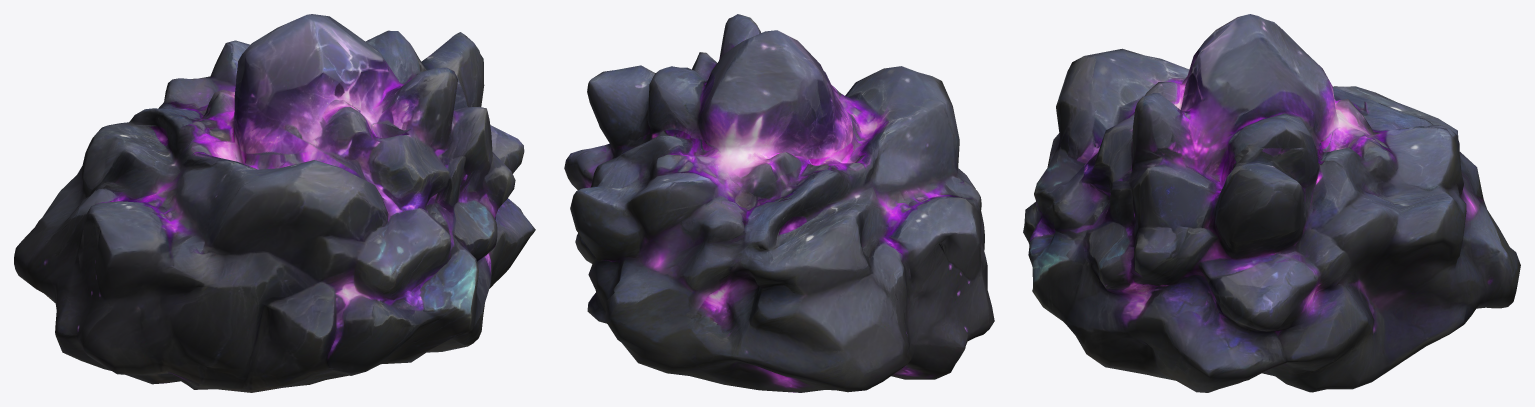
Rendered from Stylized_obsidian_ore.glb.
3 views of the same model, side by side, from view 1: azimuth 30°, elevation 25°; view 2: azimuth 150°, elevation 25°; view 3: azimuth 270°, elevation 25° (orthographic). The views are drawn at different scales.
Size of the model in its own units: 1.98 by 1.4 by 1.86.
Materials: 1 (1 with a texture image).
